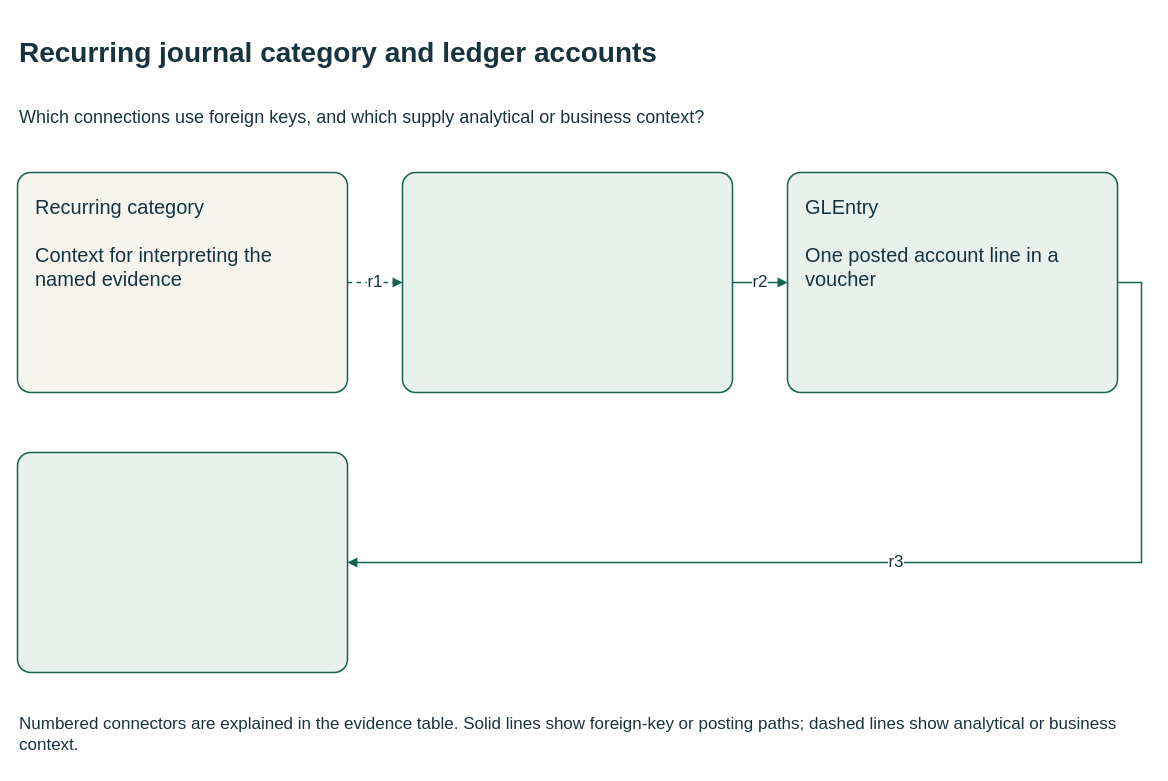
Some shapes in this 1168 by 781 pixel diagram are drawn without their labels. The shapes that lost their labels are listed below. From the top down, each one's centre as x and y in pixels, then its label:
(x=567, y=282): JournalEntry One finance-controlled journal header
(x=182, y=562): Account One chart-of-accounts account
